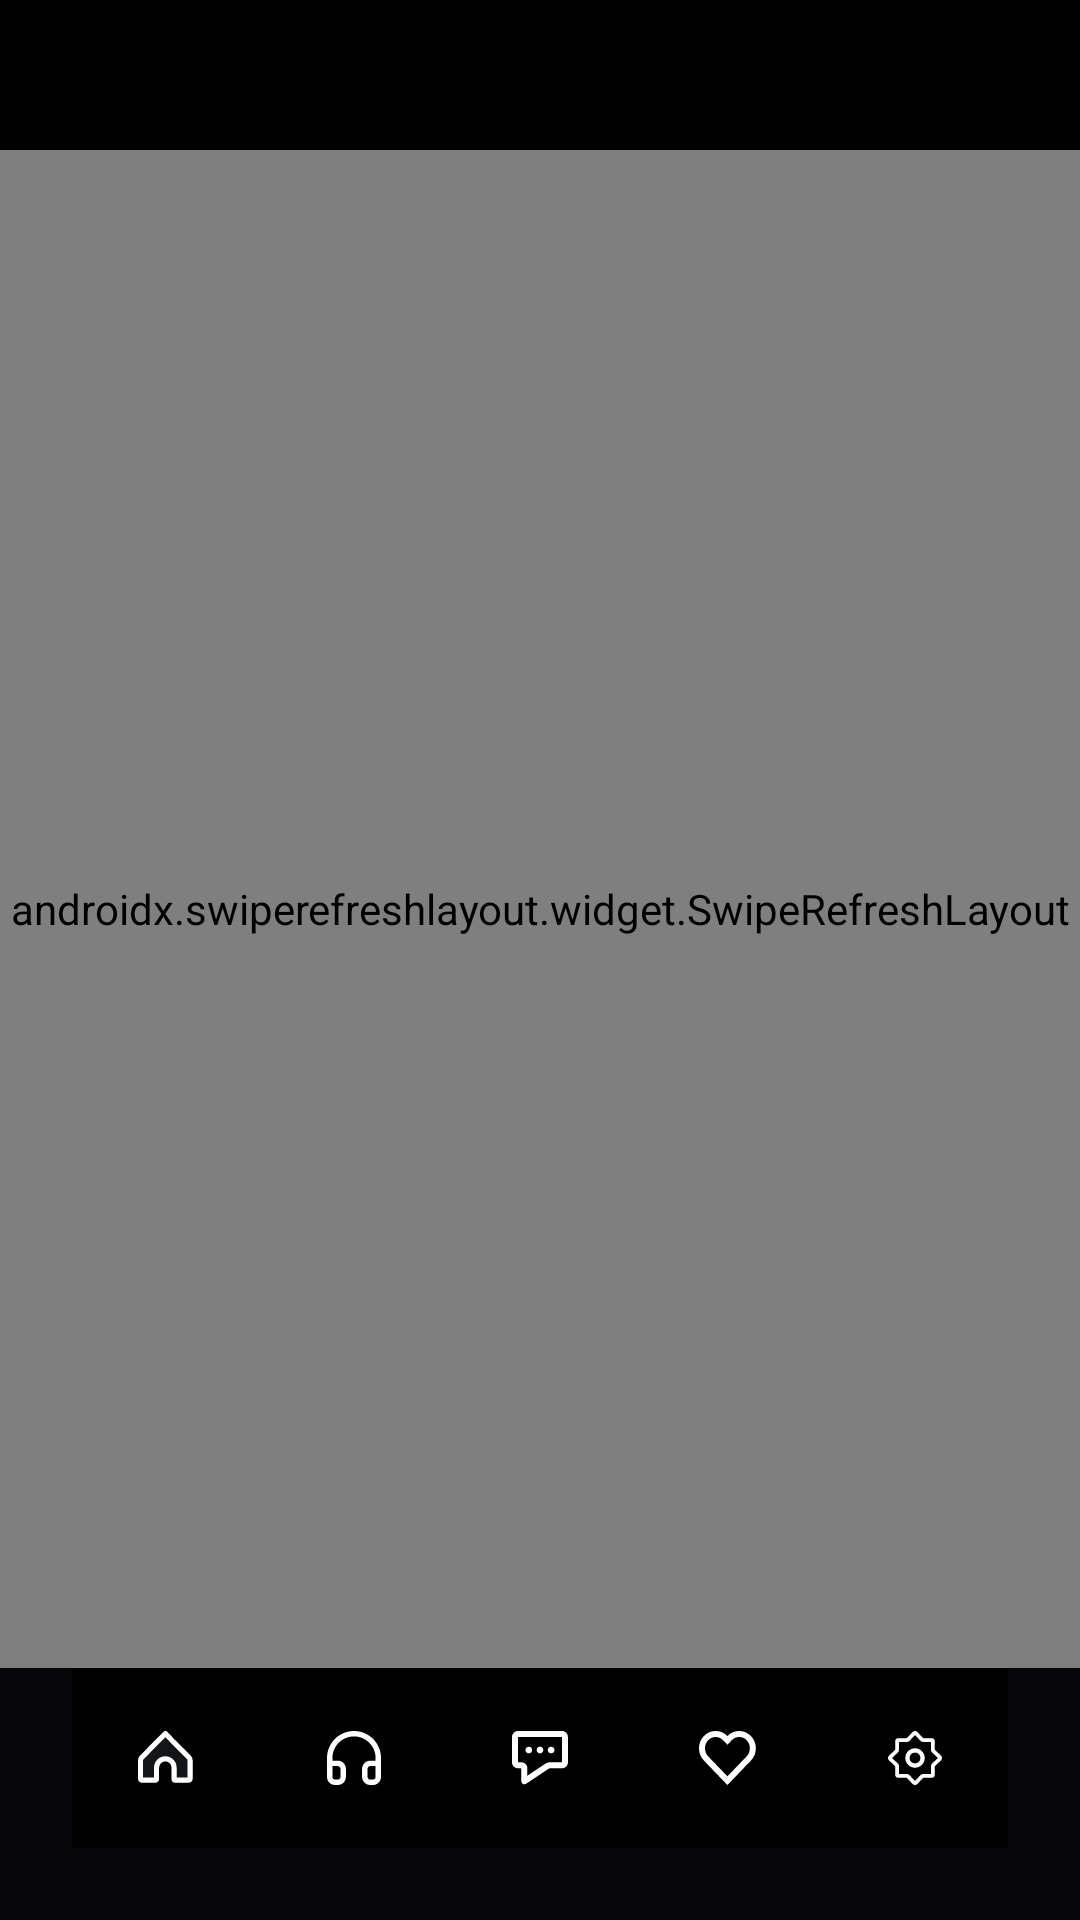

Where to tap for icons on this 1080×1920 app screen, as [x,y]:
heart: [727,1758]
phones: [354,1758]
talk cloud: [540,1758]
